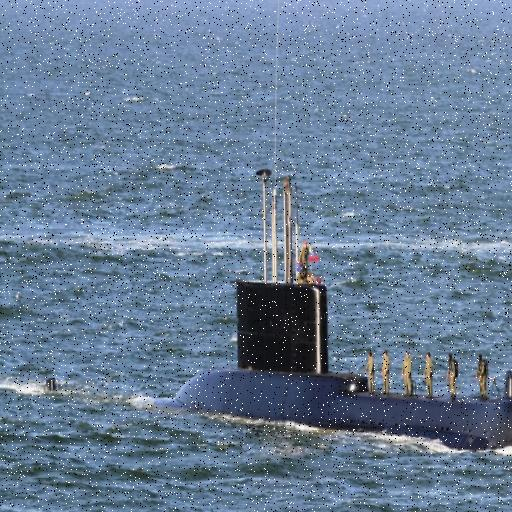submarine: (139, 154, 512, 446)
